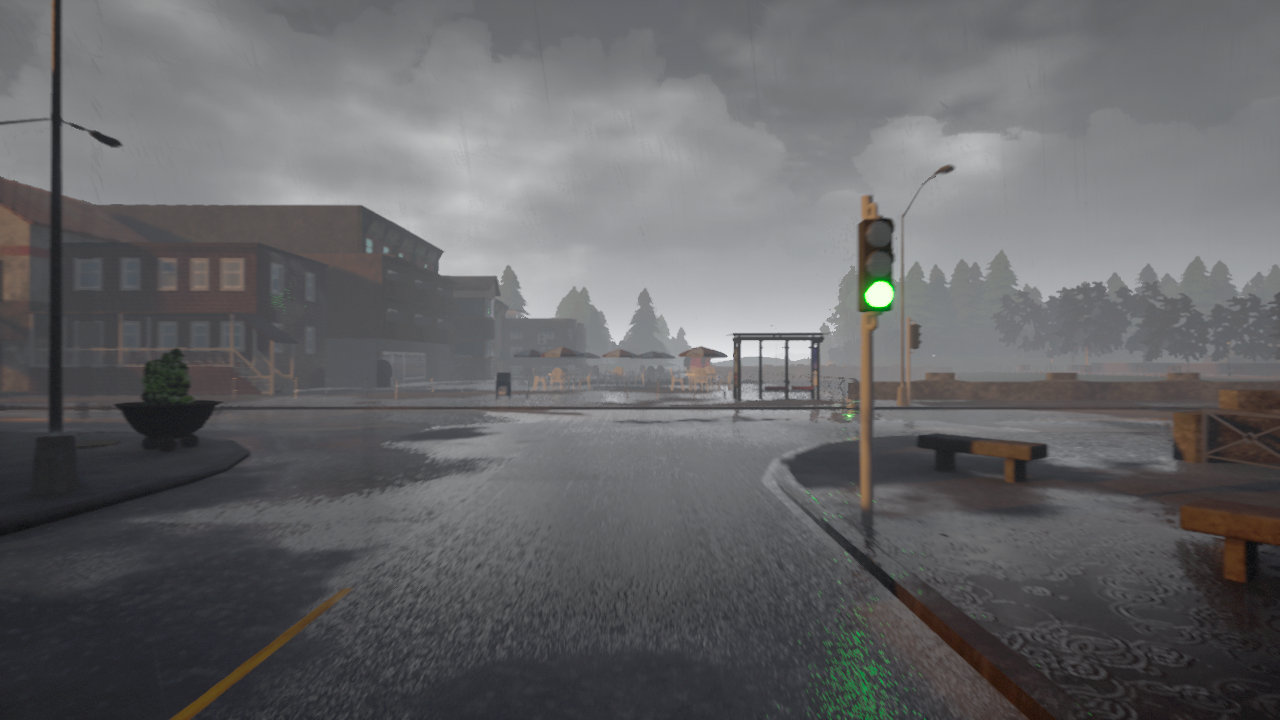green: (860, 214, 898, 312)
